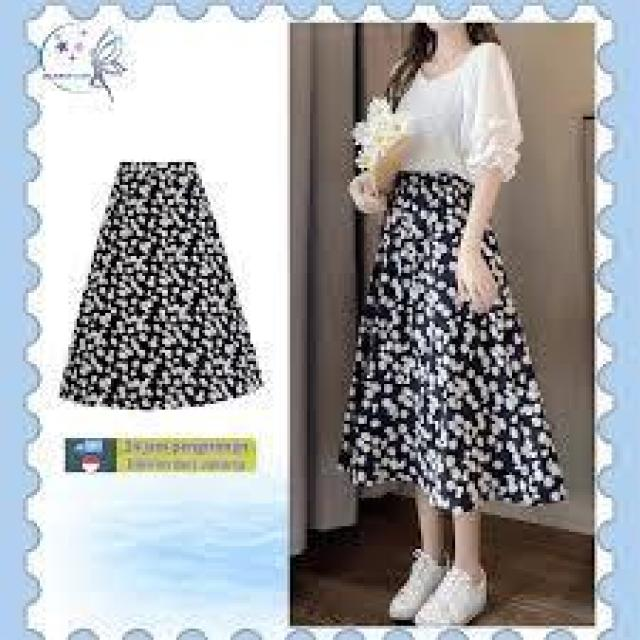shirt: (351, 46, 562, 188)
skirt: (336, 156, 578, 544), (52, 151, 272, 415)
